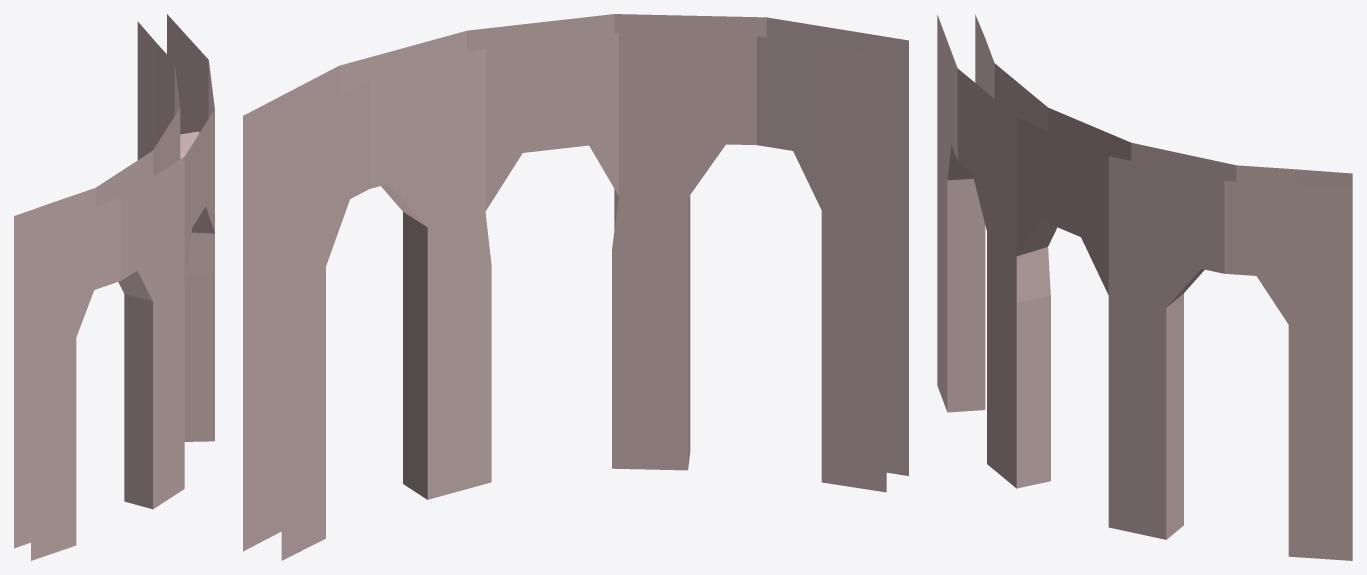
Rendered from castle_tower_big_arches.fbx.
3 views of the same model, side by side, from view 1: azimuth 30°, elevation 25°; view 2: azimuth 150°, elevation 25°; view 3: azimuth 270°, elevation 25° (orthographic). The views are drawn at different scales.
Visible parts, largest first — view 1: castle_tower_big_arches; view 2: castle_tower_big_arches; view 3: castle_tower_big_arches.
Part boxes in pixels (x1,y1,x2,y2): castle_tower_big_arches: (14,14,214,560); castle_tower_big_arches: (243,14,908,560); castle_tower_big_arches: (937,15,1352,560).
Bounding box in the file's own units: 16.22 × 16 × 16.22.
